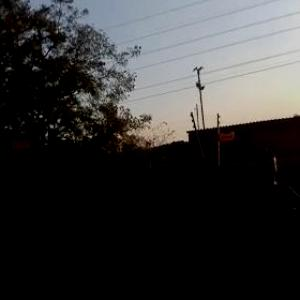follow: (240, 141, 299, 299)
